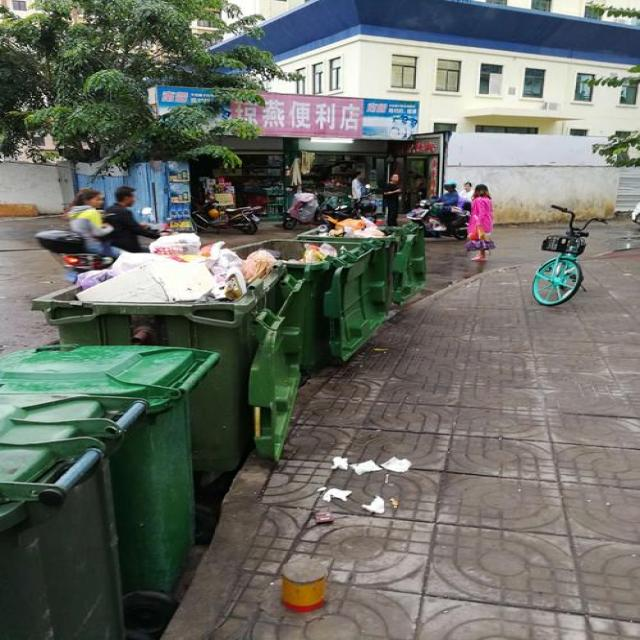garbage: (312, 447, 415, 526)
garbage_bin: (0, 343, 214, 587)
overflow: (31, 231, 302, 472), (229, 215, 393, 368)
